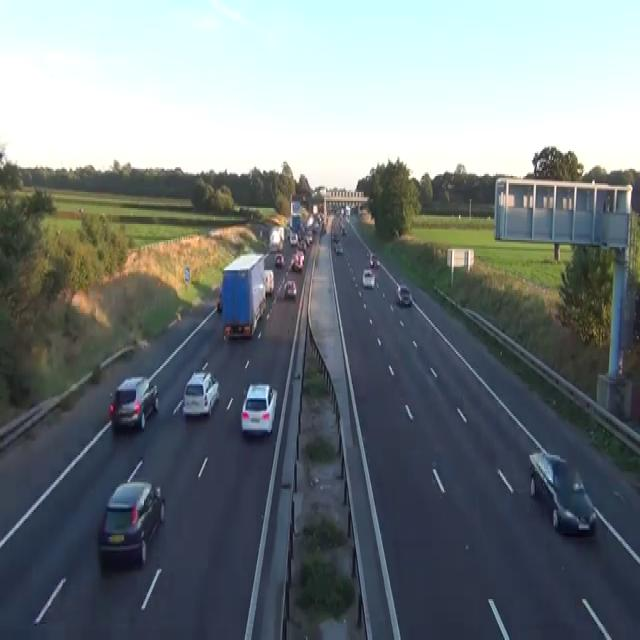Car: (528, 450, 596, 537), (97, 480, 165, 565), (109, 375, 158, 430), (552, 480, 596, 535), (240, 382, 277, 436), (182, 370, 219, 416), (396, 282, 412, 306), (290, 251, 304, 272), (283, 279, 297, 299), (362, 268, 375, 288), (276, 277, 286, 299), (175, 304, 183, 322), (369, 254, 379, 268), (259, 224, 269, 238), (275, 252, 284, 266), (304, 231, 312, 245), (296, 240, 305, 251), (335, 242, 343, 254), (216, 292, 221, 311), (312, 221, 320, 231), (332, 231, 339, 242), (359, 206, 367, 215), (350, 202, 357, 212), (340, 224, 346, 235), (259, 228, 263, 238), (369, 258, 374, 266), (366, 249, 369, 258)
Truck: (221, 252, 266, 340), (269, 226, 284, 250), (264, 269, 274, 295)
